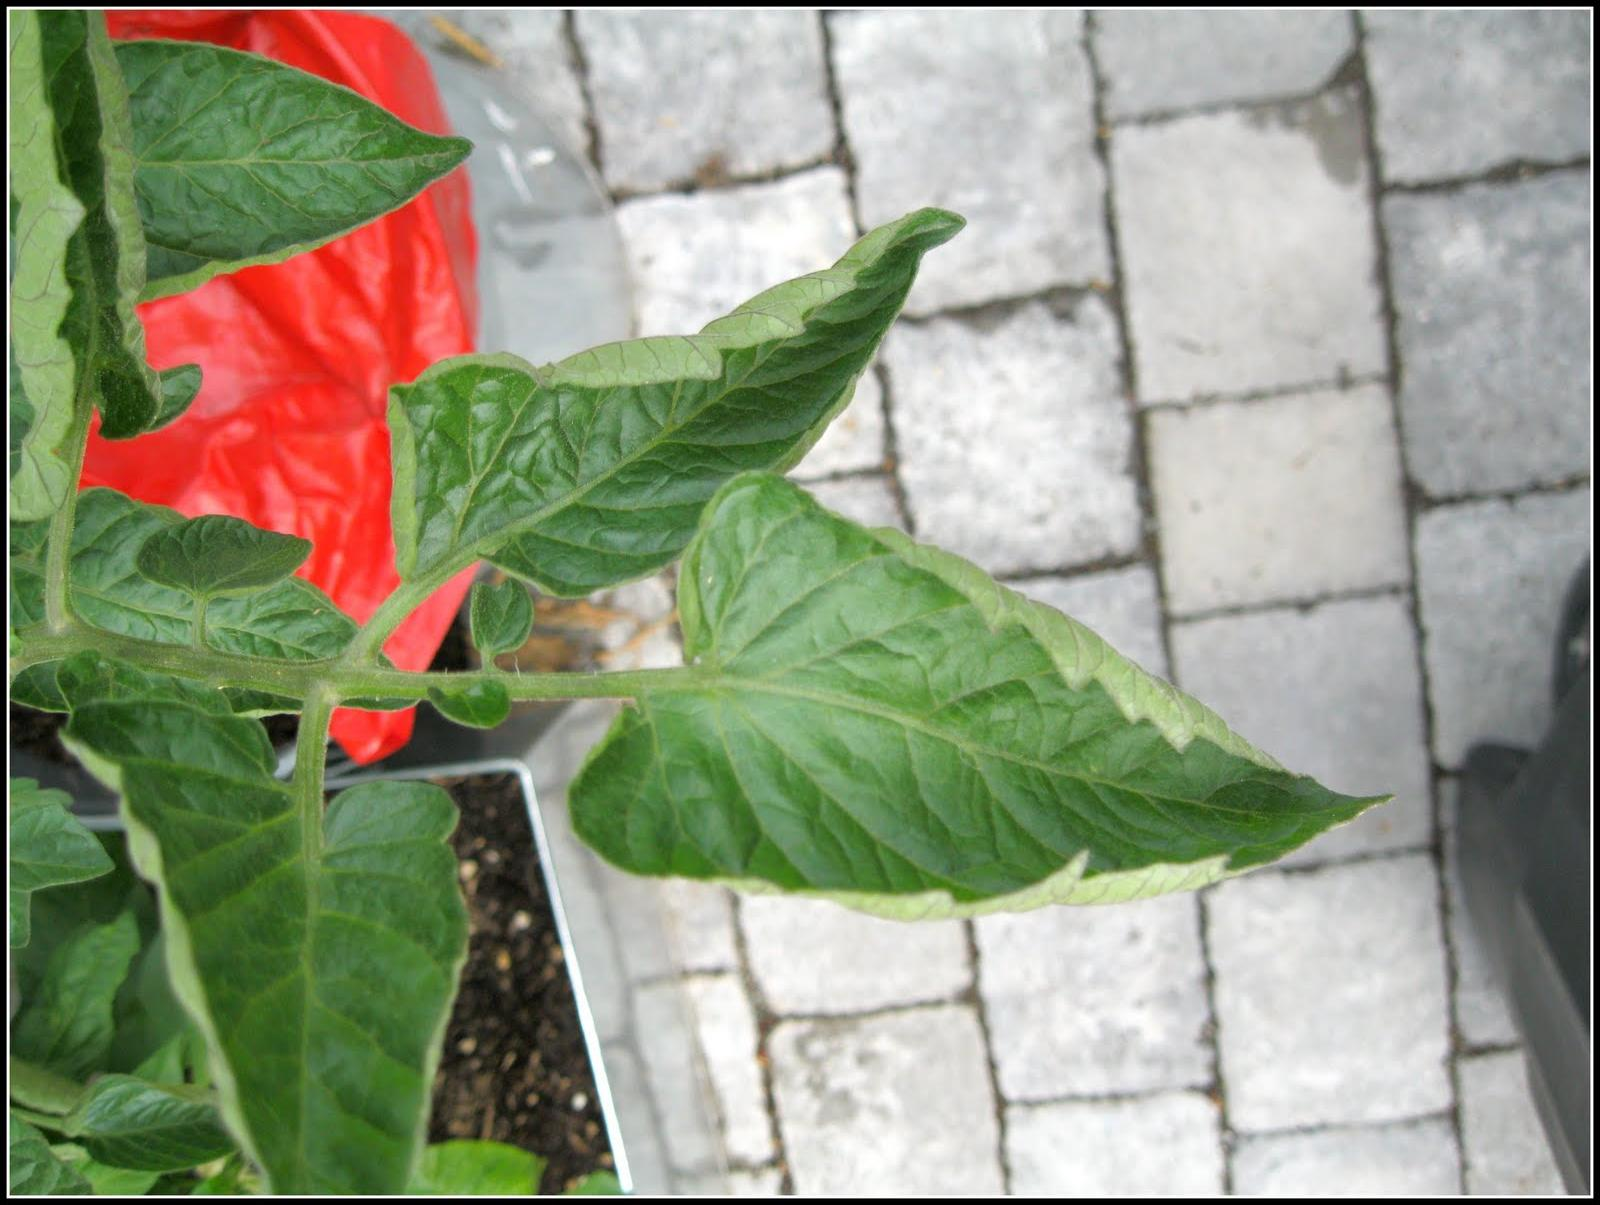Tomato leaf: (566, 471, 1354, 908), (366, 156, 972, 613), (58, 694, 477, 1197)
